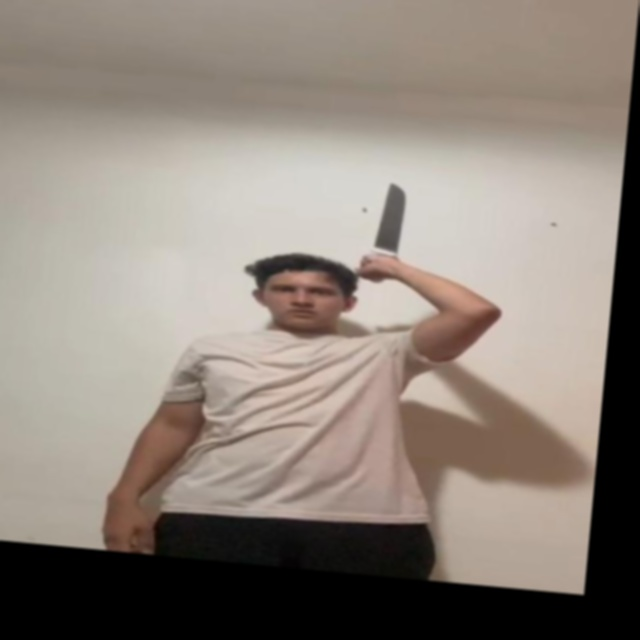Sharp-Object: (370, 177, 413, 252)
